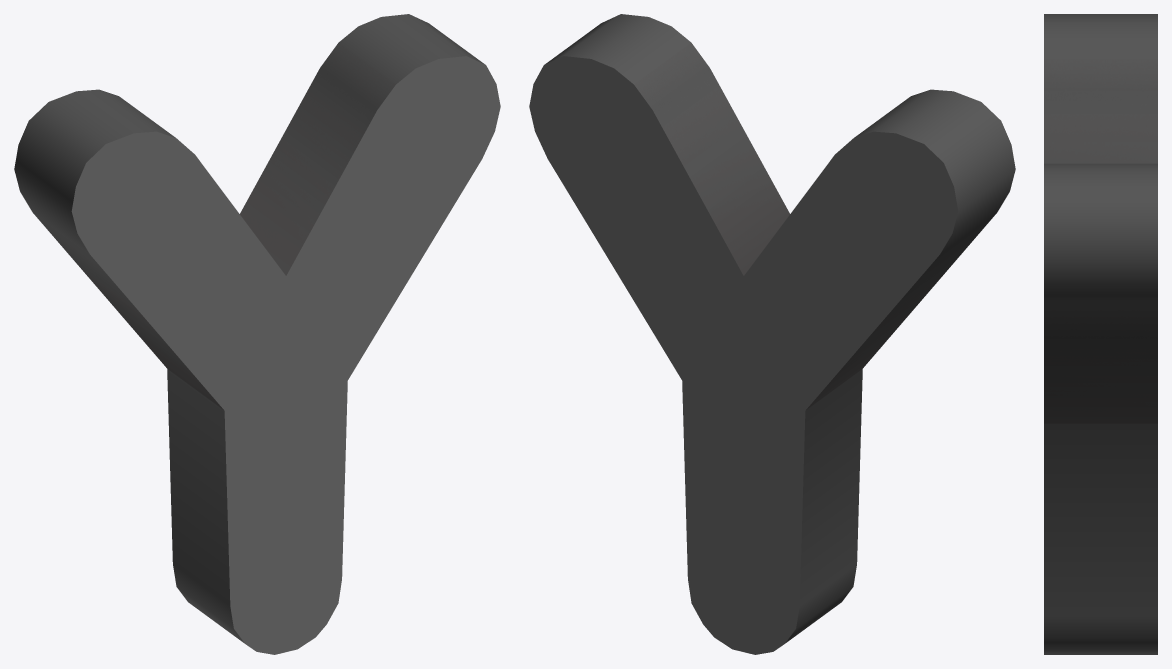
The picture shows the model from 3 angles, left to right: view 1: azimuth 30°, elevation 25°; view 2: azimuth 150°, elevation 25°; view 3: azimuth 270°, elevation 25°; orthographic projection.
Parts seen in each view (by area): view 1: Text_Y; view 2: Text_Y; view 3: Text_Y.
Boxes of the visible parts, left/top/right/bottom form: Text_Y: left=14, top=14, right=500, bottom=654; Text_Y: left=529, top=14, right=1015, bottom=654; Text_Y: left=1044, top=14, right=1157, bottom=654.
Bounding box in the file's own units: 29.05 × 35.97 × 6.73.
